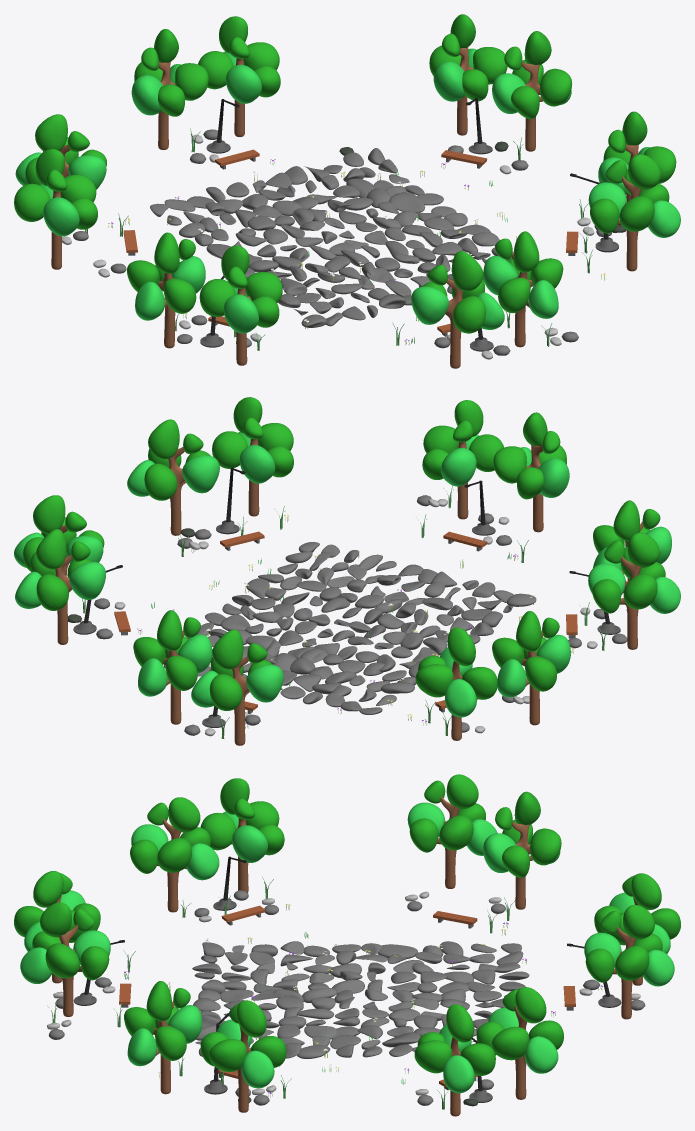
The picture shows the model from 3 angles, top to bottom: view 1: azimuth 30°, elevation 25°; view 2: azimuth 150°, elevation 25°; view 3: azimuth 270°, elevation 25°; orthographic projection. The views are drawn at different scales.
Parts seen in each view (by area): view 1: Cube.130, Cylinder.057, Cylinder.059, Cylinder.060, Cylinder.007, Cylinder.010, Cylinder.011, Cylinder.005, Cylinder.012, Cylinder.004, Cylinder.015, Cylinder.006 (+1 smaller); view 2: Cube.130, Cylinder.007, Cylinder.012, Cylinder.016, Cylinder.015, Cylinder.005, Cylinder.010, Cylinder.057, Cylinder.060, Cylinder.059, Cylinder.006, Cylinder.004 (+1 smaller); view 3: Cube.130, Cylinder.011, Cylinder.005, Cylinder.060, Cylinder.010, Cylinder.015, Cylinder.016, Cylinder.057, Cylinder.007, Cylinder.006, Cylinder.004, Cylinder.059 (+1 smaller).
Boxes of the visible parts, x1,y1,x2,y2 form: Cube.130: (150,148,511,327); Cylinder.057: (588,154,680,271); Cylinder.059: (411,251,504,368); Cylinder.060: (483,231,563,347); Cylinder.007: (127,232,205,348); Cylinder.010: (14,149,97,269); Cylinder.011: (199,245,282,365); Cylinder.005: (198,16,280,136); Cylinder.012: (131,29,208,149); Cylinder.004: (492,31,572,151); Cylinder.015: (429,14,507,135); Cylinder.006: (15,114,106,189); Cube.130: (164,542,536,714); Cylinder.007: (588,532,680,649); Cylinder.012: (191,629,283,745); Cylinder.016: (127,419,219,535); Cylinder.015: (15,529,105,644); Cylinder.005: (133,610,212,724); Cylinder.010: (492,611,570,725); Cylinder.057: (212,397,293,516); Cylinder.060: (422,400,503,519); Cylinder.059: (493,412,569,532); Cylinder.006: (415,627,497,740); Cylinder.004: (14,495,104,576); Cube.130: (192,941,529,1058); Cylinder.011: (130,797,219,912); Cylinder.005: (584,905,674,1019); Cylinder.060: (20,902,110,1016); Cylinder.010: (407,774,497,888); Cylinder.015: (476,987,563,1099); Cylinder.016: (200,1000,286,1112); Cylinder.057: (124,981,202,1094); Cylinder.007: (200,778,284,892); Cylinder.006: (483,791,561,909); Cylinder.004: (414,1004,495,1116); Cylinder.059: (14,871,100,983).
Bounding box in the file's own units: 17.62 × 3.68 × 18.9.
